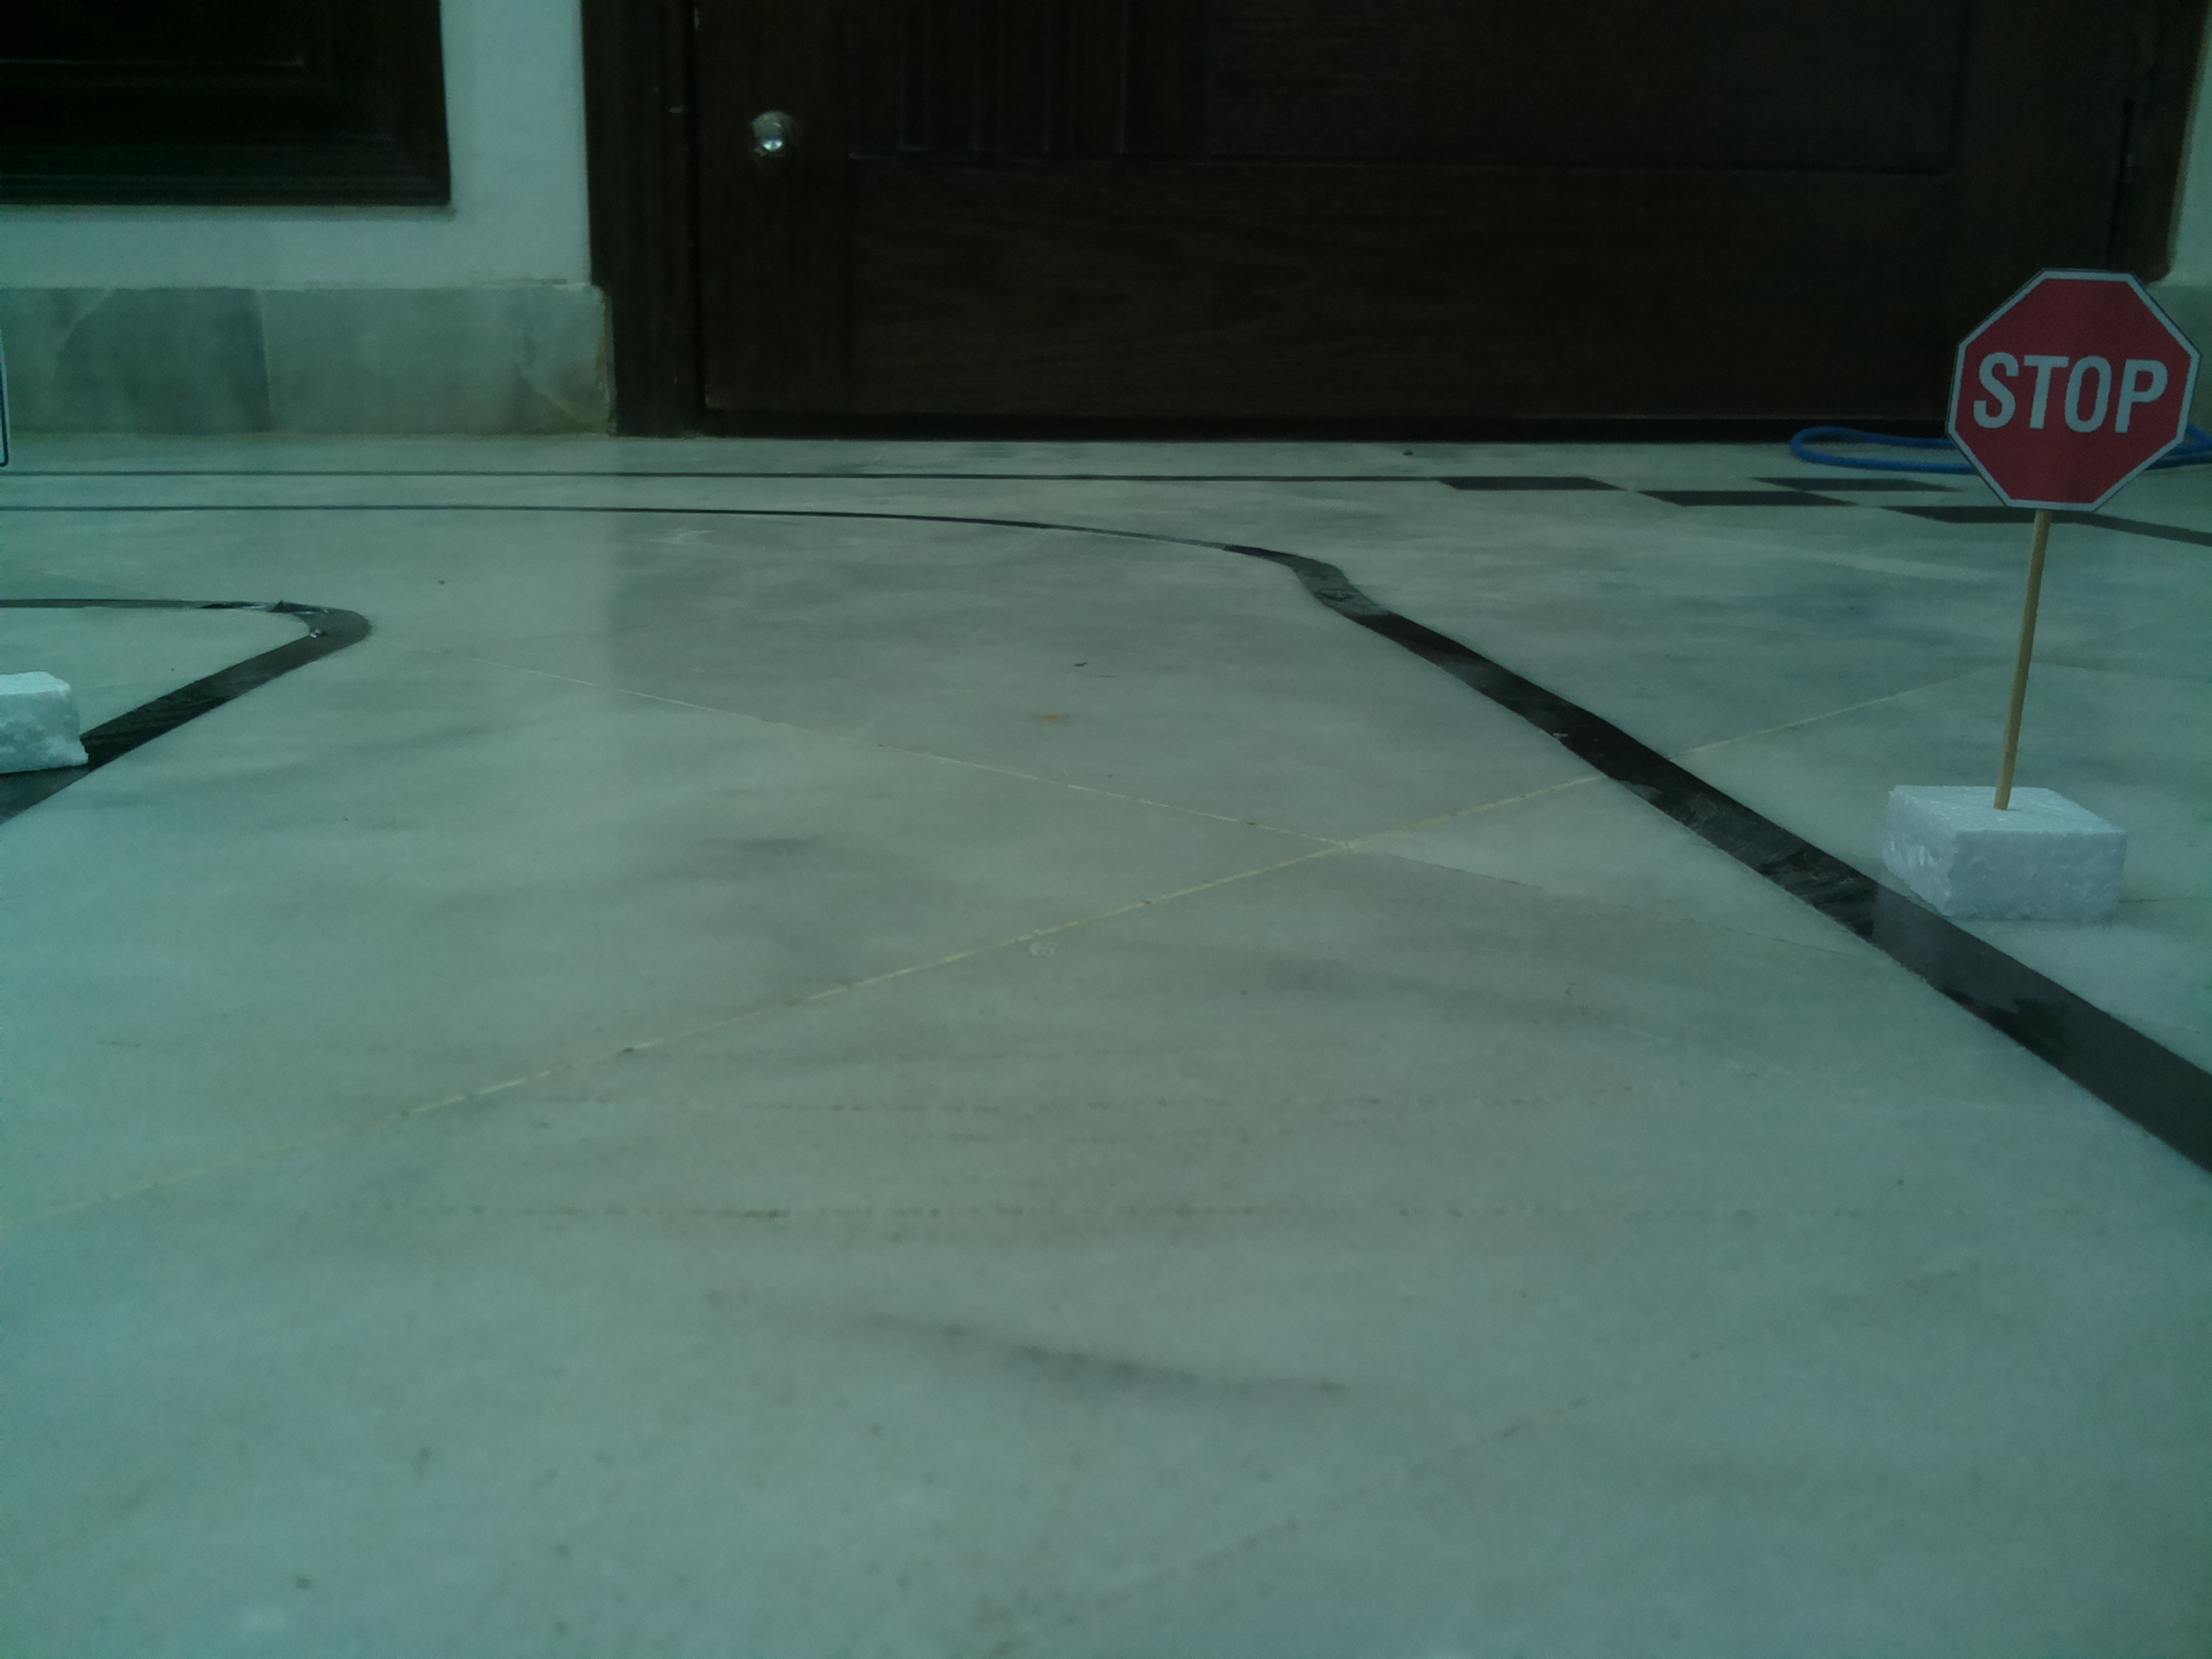Stop sign: (1946, 254, 2203, 519)
